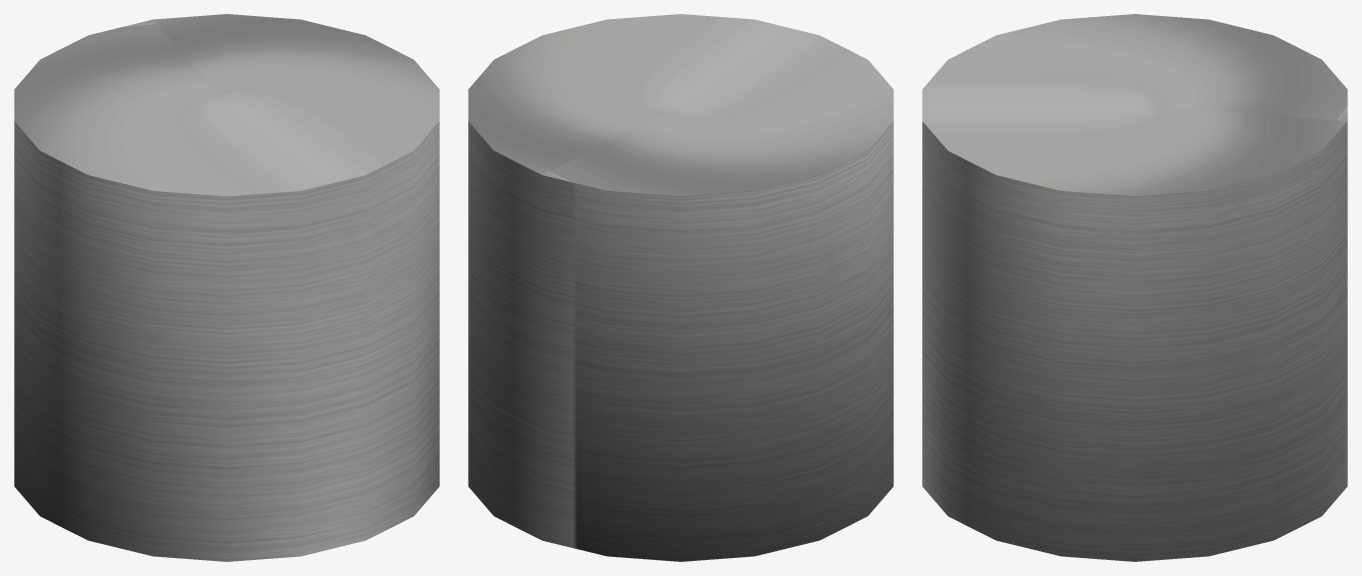
File: TurretBase.FBX
The picture shows the model from 3 angles, left to right: view 1: azimuth 30°, elevation 25°; view 2: azimuth 150°, elevation 25°; view 3: azimuth 270°, elevation 25°; orthographic projection.
Visible parts, largest first — view 1: Cylinder001; view 2: Cylinder001; view 3: Cylinder001.
Boxes of the visible parts, x1,y1,x2,y2 form: Cylinder001: [14, 14, 439, 561]; Cylinder001: [468, 14, 893, 561]; Cylinder001: [922, 14, 1347, 561].
Bounding box in the file's own units: 1.94 × 1.81 × 1.91.
1 material, 1 textured.
